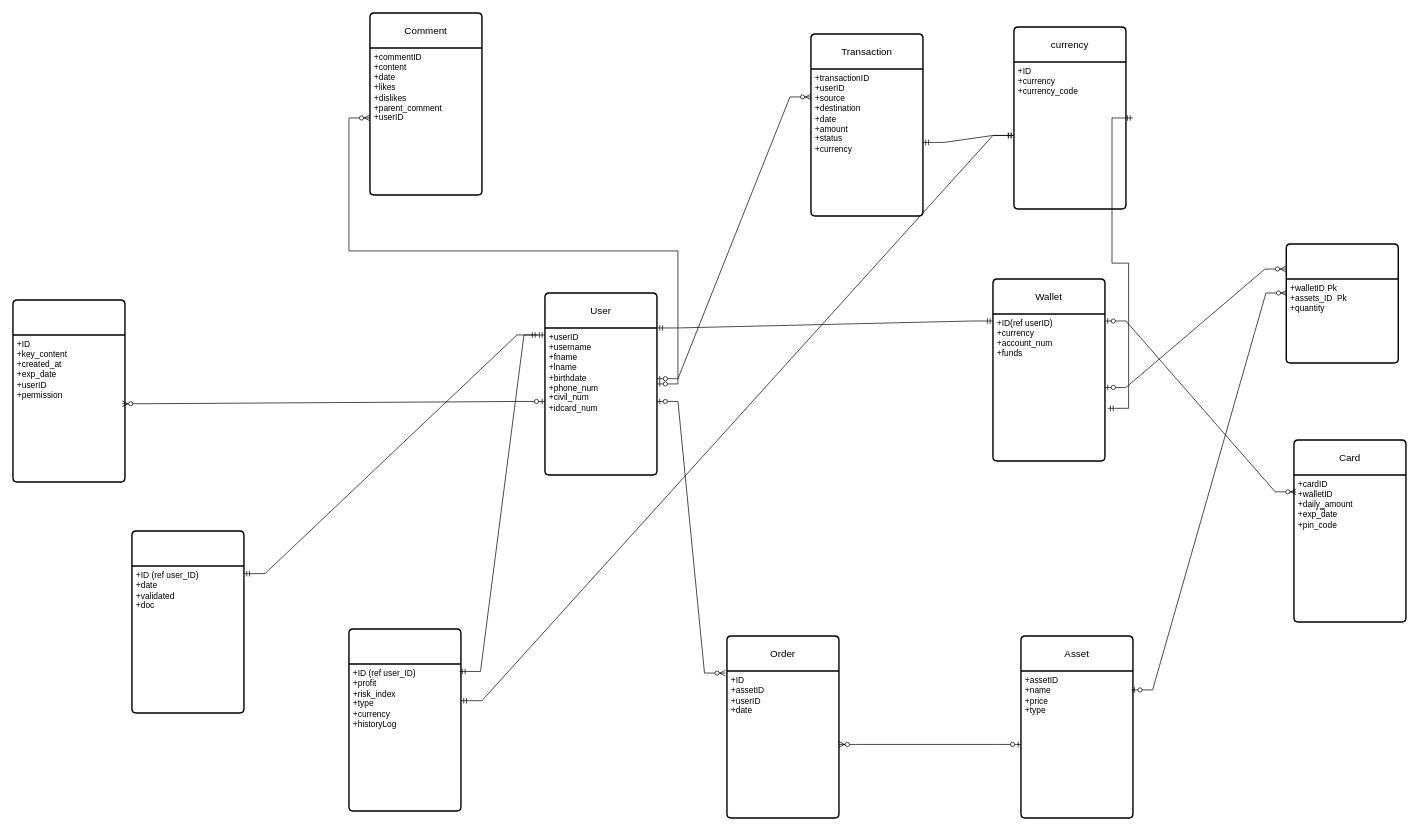
This 1418x830 diagram has some shape labels left out. The box of each missing label's shape, as (x1, y1, x2, y2) in pixels:
Address Doc: (131, 530, 244, 713)
API key: (12, 299, 125, 482)
OwnedAssets: (1285, 243, 1399, 363)
Portfolio: (348, 628, 461, 811)
